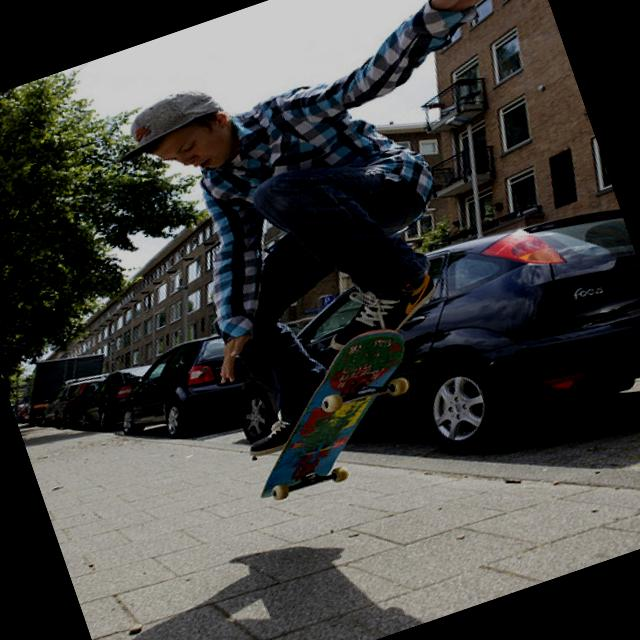Vehicle: (205, 190, 640, 532), (100, 324, 266, 465), (64, 358, 172, 440), (30, 370, 122, 434), (51, 374, 118, 432)
